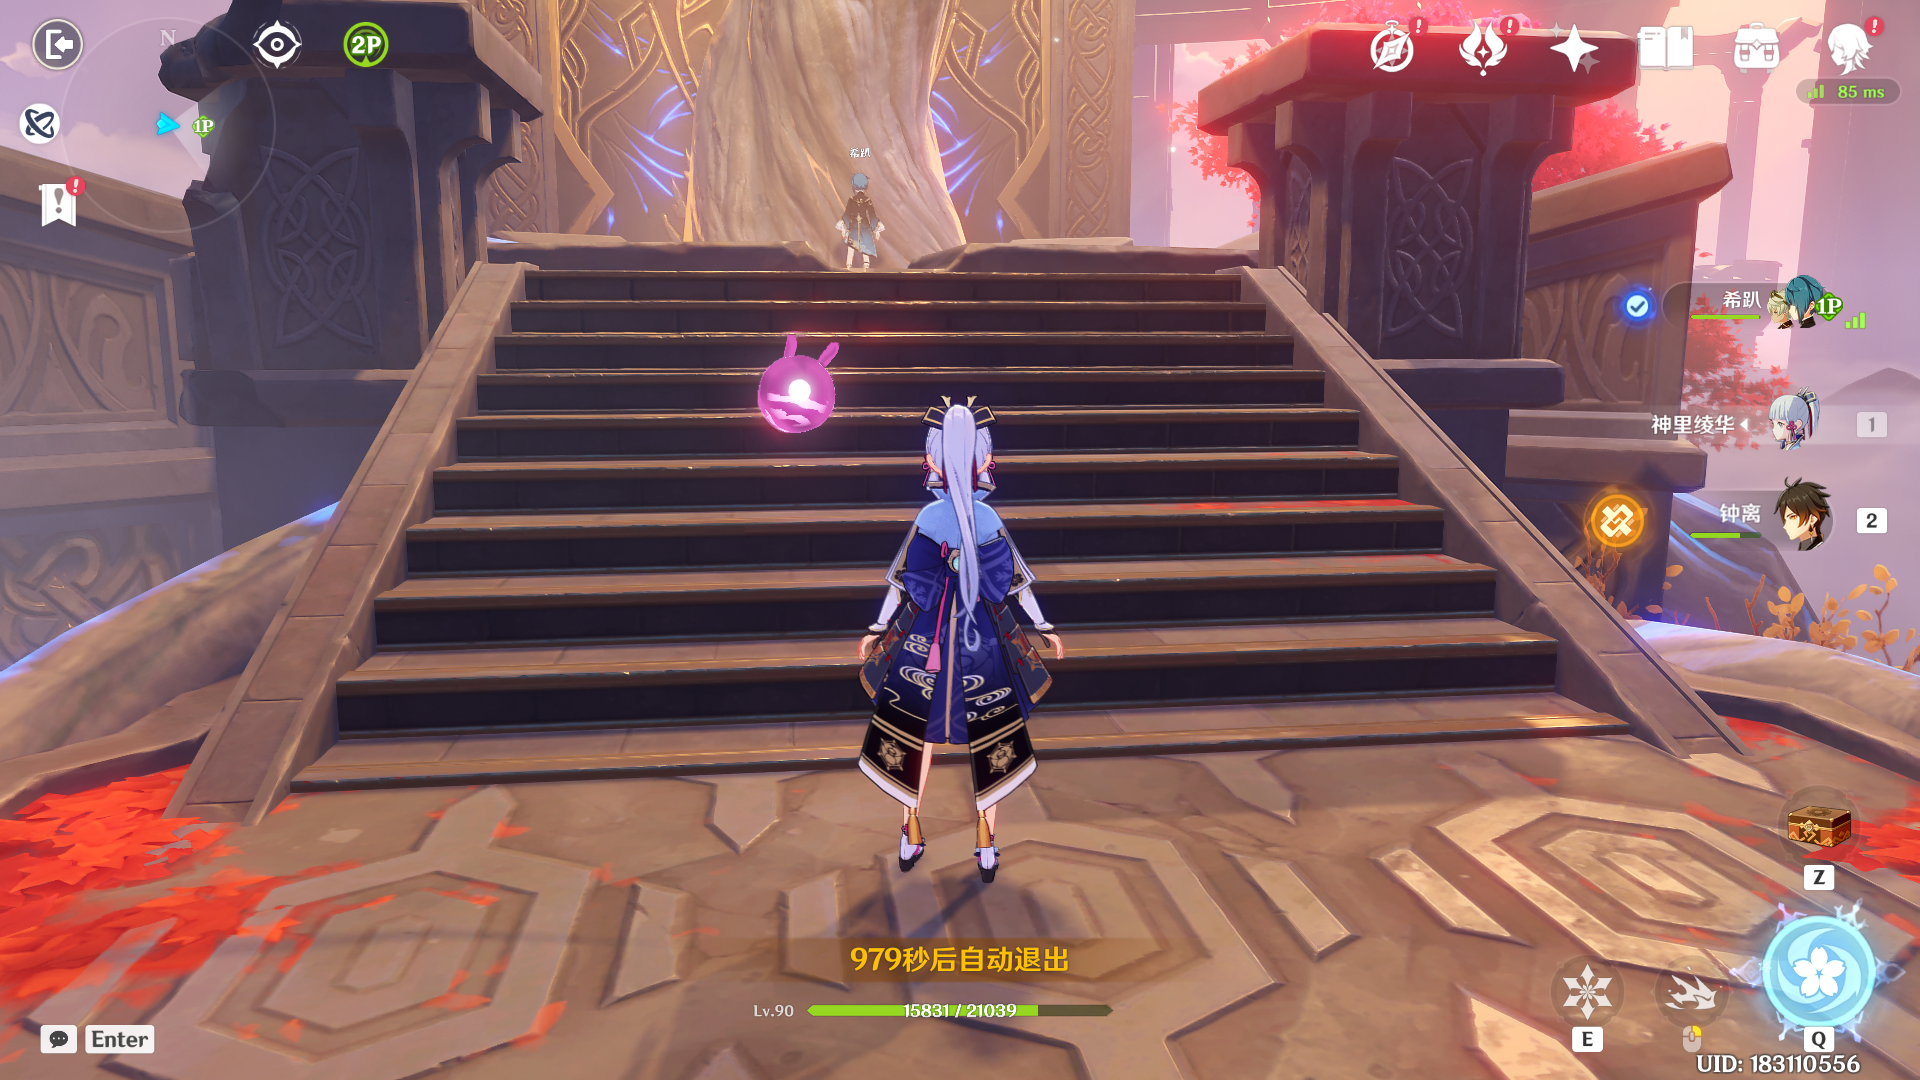character: (816, 349, 1106, 924), (825, 175, 905, 277)
